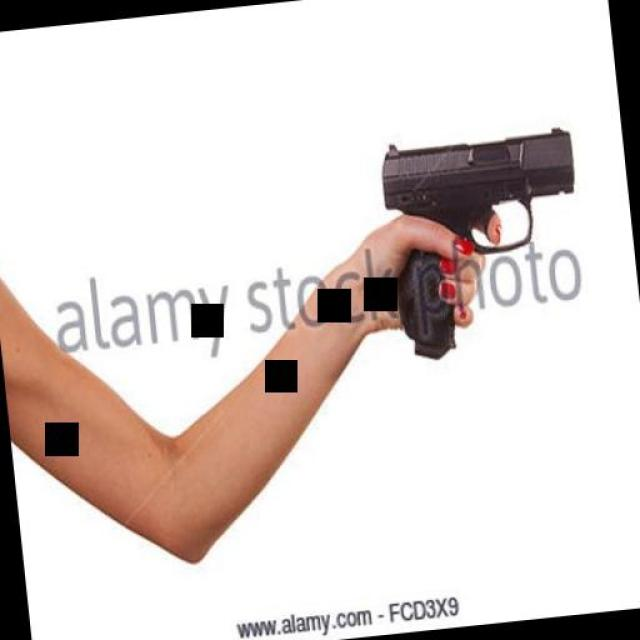gun: (370, 119, 591, 365)
